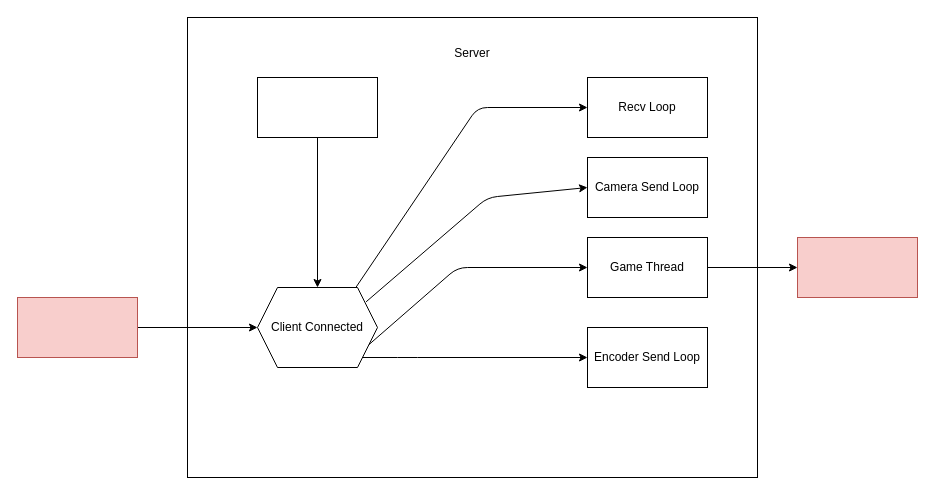
The diagram is 935 pixels wide and 495 high, and some of its shapes have lost their labels. Here are the shapes that lost their labels. From the top down, the centre of each, then its label:
the point at 317,107: Main
the point at 857,267: Game
the point at 77,327: StateController
